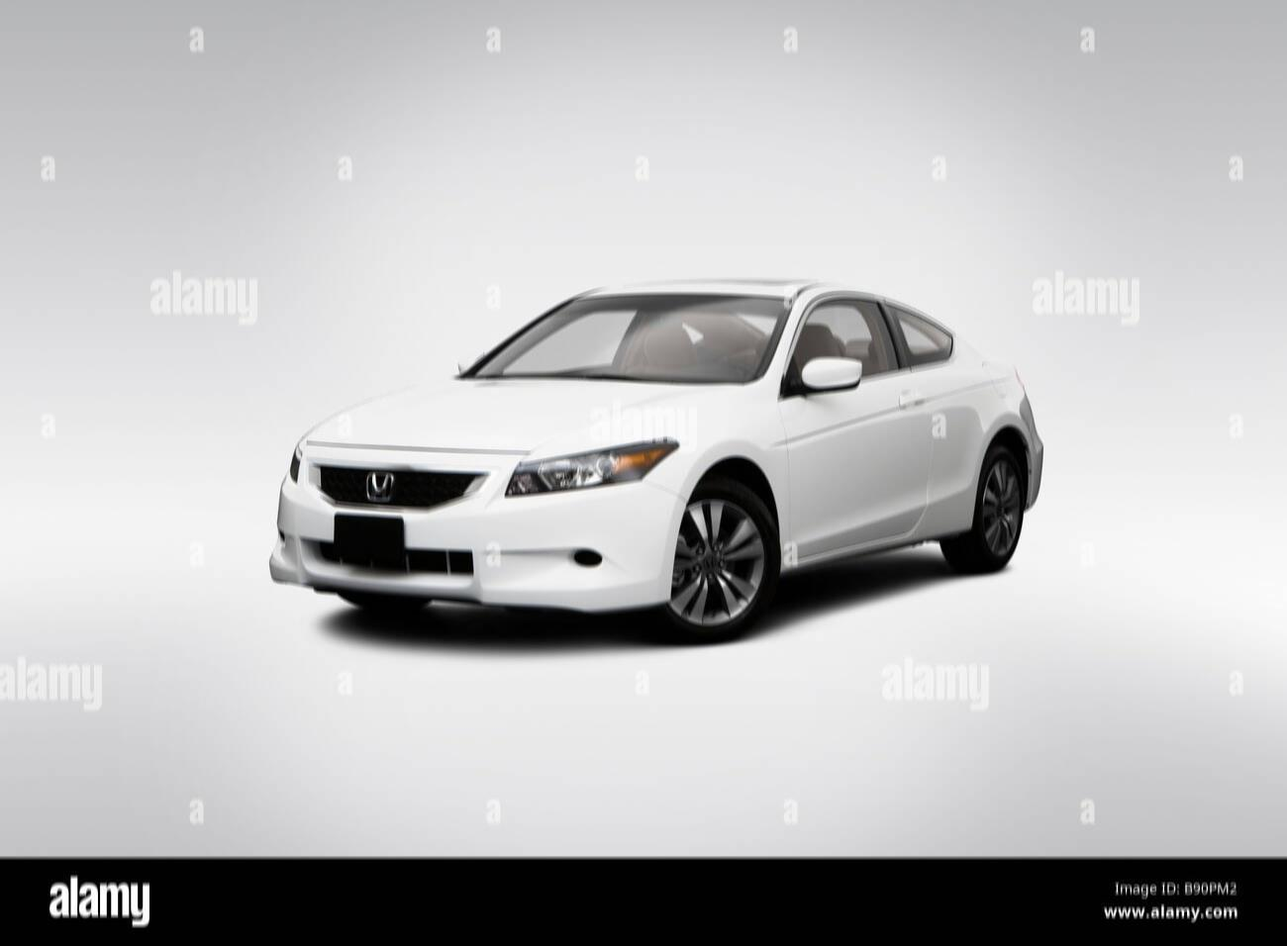Car hood: (289, 371, 750, 471)
Fender - -F-L-: (645, 360, 799, 576)
Fender - -R-L-: (963, 357, 1034, 540)
Front bumper: (262, 479, 693, 611)
Headlight - -L-: (499, 430, 688, 505)
Headlight - -R-: (283, 436, 320, 489)
Passenger-s door - -F-L-: (778, 287, 951, 561)
Rear bumper: (1025, 424, 1057, 520)
Side bumper - -L-: (768, 520, 999, 583)
Side mirror - -L-: (788, 352, 873, 411)
